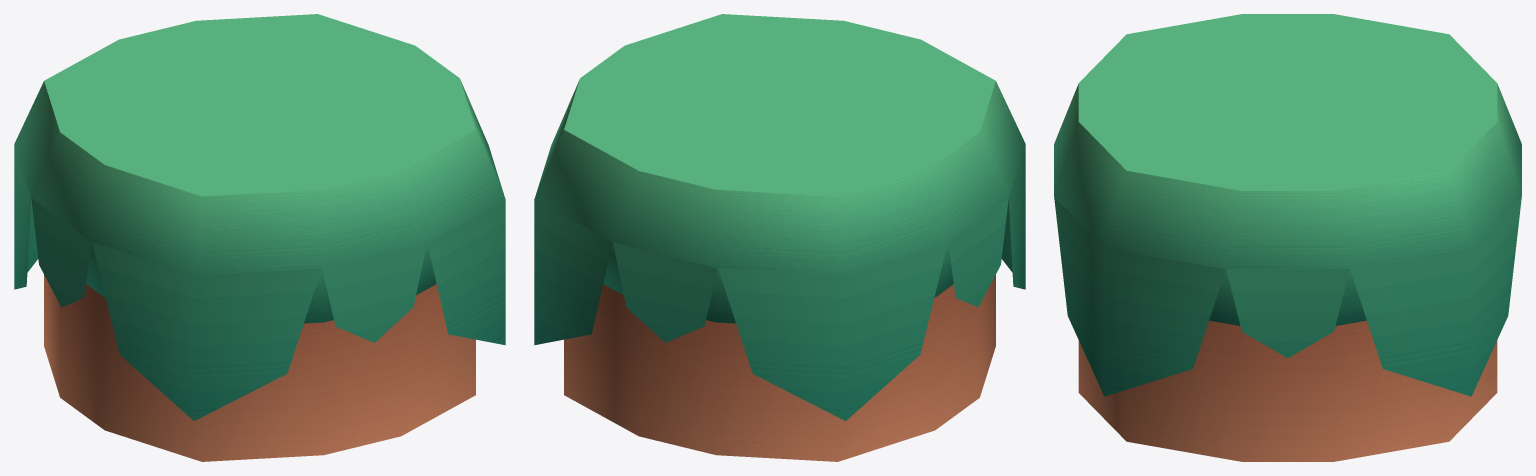
The model's file is block-grass-overhang-low-narrow.glb.
The picture shows the model from 3 angles, left to right: view 1: azimuth 30°, elevation 25°; view 2: azimuth 150°, elevation 25°; view 3: azimuth 270°, elevation 25°; orthographic projection. The views are drawn at different scales.
Visible parts, largest first — view 1: block-grass-overhang-low-narrow; view 2: block-grass-overhang-low-narrow; view 3: block-grass-overhang-low-narrow.
Part boxes in pixels (x1,y1,x2,y2): block-grass-overhang-low-narrow: (14, 14, 505, 461); block-grass-overhang-low-narrow: (534, 14, 1025, 461); block-grass-overhang-low-narrow: (1054, 14, 1521, 461).
Size of the model in its own units: 0.7821 by 0.5 by 0.7821.
Materials: 1 (1 with a texture image).
